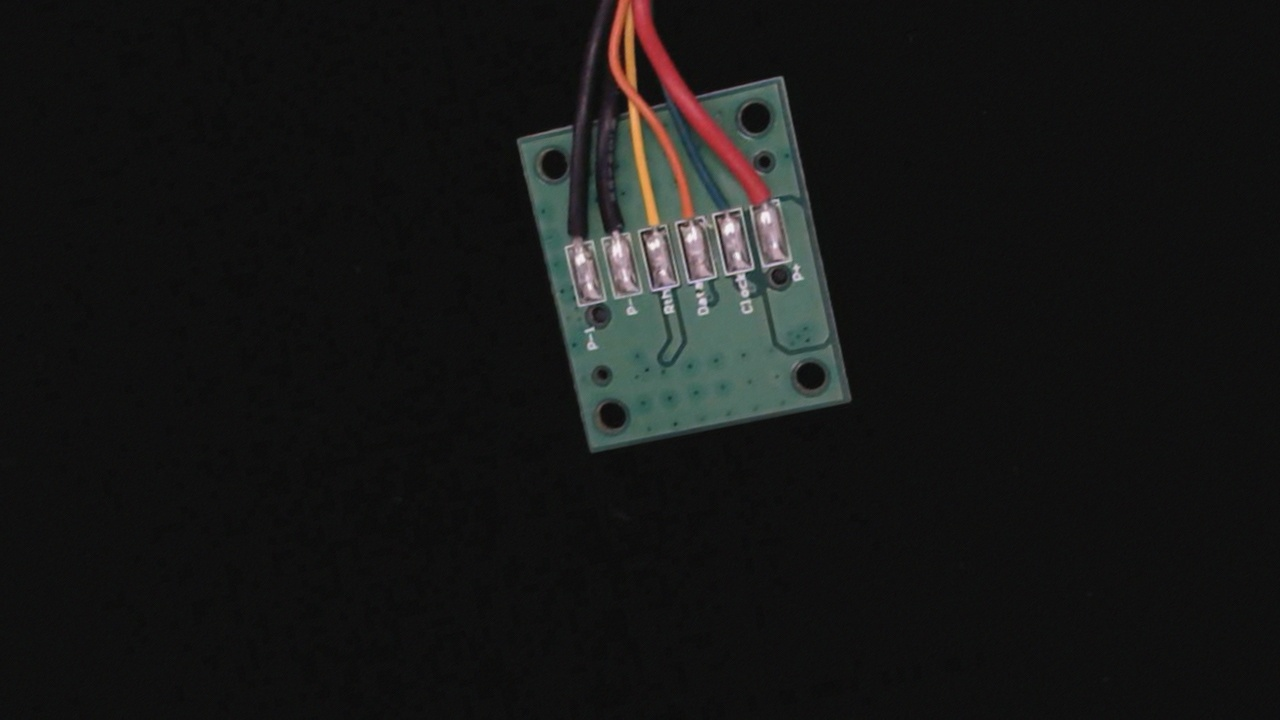Black: (587, 177, 635, 255)
Black1: (550, 190, 595, 263)
Green: (704, 167, 746, 233)
Orange: (663, 163, 708, 241)
Red: (738, 147, 785, 223)
Yellow: (626, 168, 674, 247)
